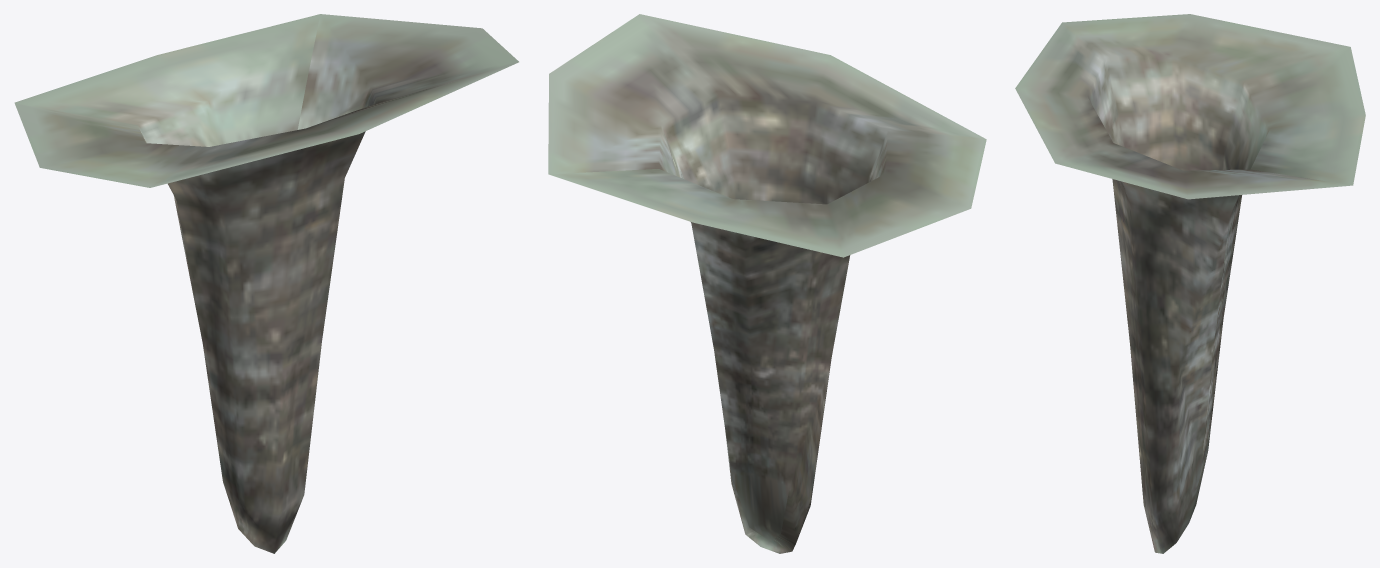
The model's file is TROLLHOLE02_PS-MAINSTALAG72.fbx.
The picture shows the model from 3 angles, left to right: view 1: azimuth 30°, elevation 25°; view 2: azimuth 150°, elevation 25°; view 3: azimuth 270°, elevation 25°; orthographic projection. The views are drawn at different scales.
Parts seen in each view (by area): view 1: TROLLHOLE02_PS-MAINSTALAG72; view 2: TROLLHOLE02_PS-MAINSTALAG72; view 3: TROLLHOLE02_PS-MAINSTALAG72.
Boxes of the visible parts, x1,y1,x2,y2 form: TROLLHOLE02_PS-MAINSTALAG72: [14, 14, 518, 553]; TROLLHOLE02_PS-MAINSTALAG72: [548, 14, 986, 553]; TROLLHOLE02_PS-MAINSTALAG72: [1015, 14, 1365, 553].
Bounding box in the file's own units: 23971 × 24891 × 16287.
1 material, 1 textured.
